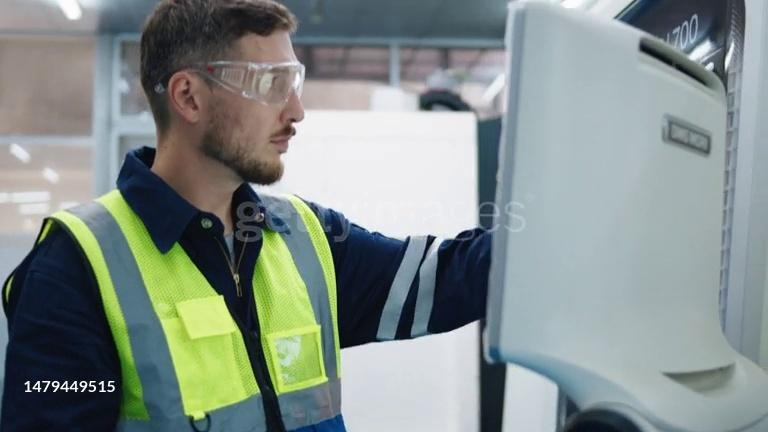person: (0, 0, 497, 427)
